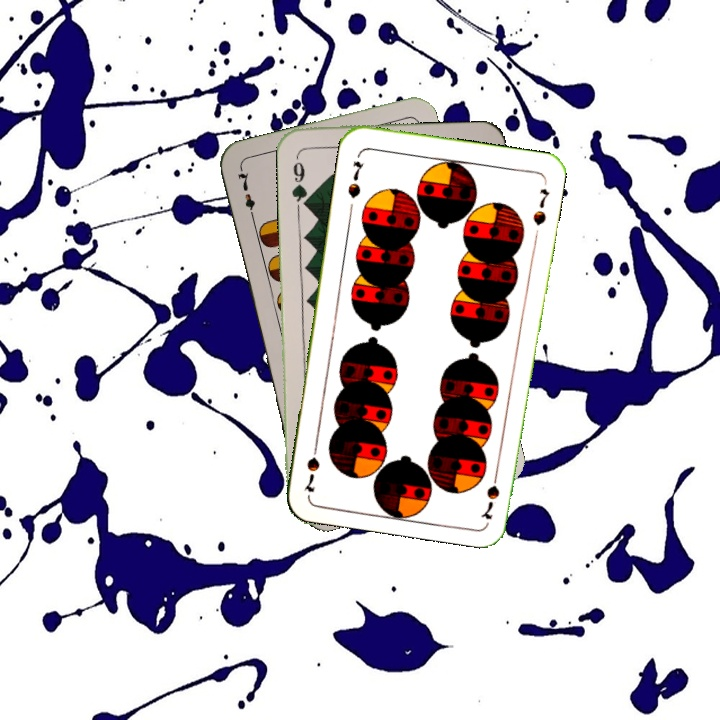E7: (233, 165, 258, 224)
G9: (287, 150, 311, 209)
S7: (478, 463, 502, 522), (343, 157, 366, 201)
